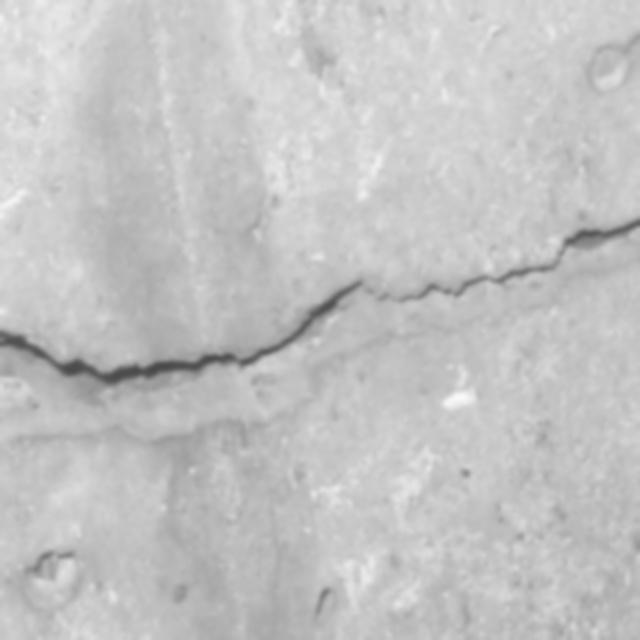SurfaceCrack: (1, 165, 640, 427)
